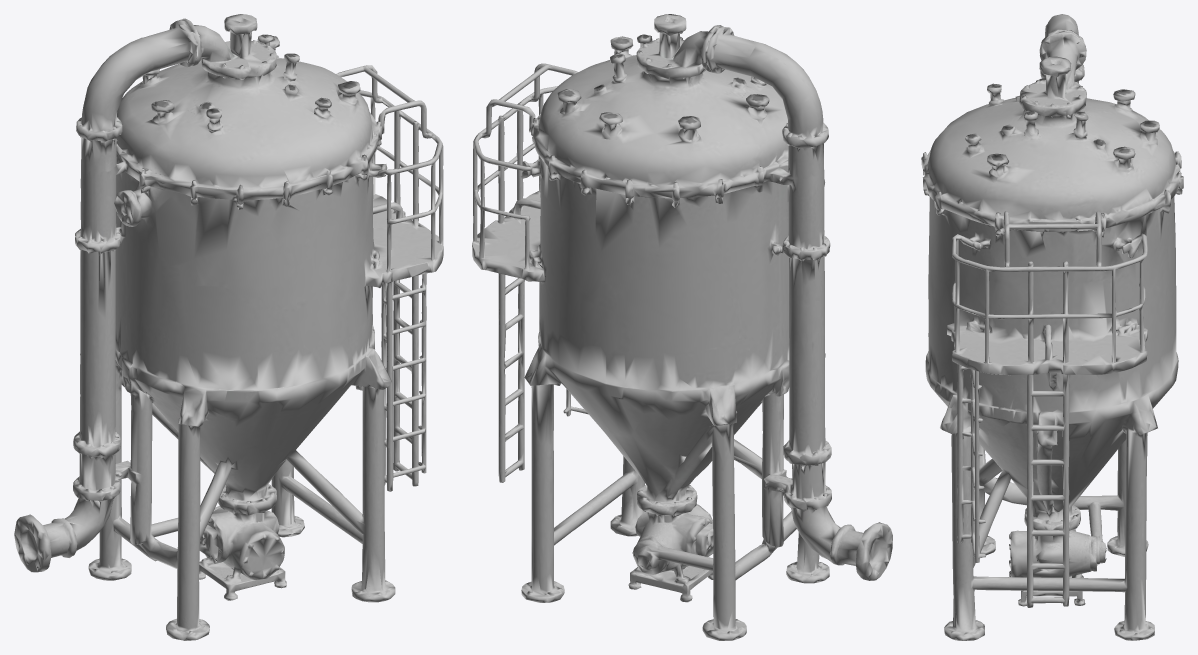
File: separator-m.glb
3 views of the same model, side by side, from view 1: azimuth 30°, elevation 25°; view 2: azimuth 150°, elevation 25°; view 3: azimuth 270°, elevation 25° (orthographic). The views are drawn at different scales.
Parts seen in each view (by area): view 1: mesh_0; view 2: mesh_0; view 3: mesh_0.
Boxes of the visible parts, x1,y1,x2,y2 form: mesh_0: (14, 14, 443, 640); mesh_0: (472, 14, 892, 640); mesh_0: (921, 14, 1183, 640).
Size of the model in its own units: 1.33 by 1.9 by 0.8393.
1 material, 1 textured.
